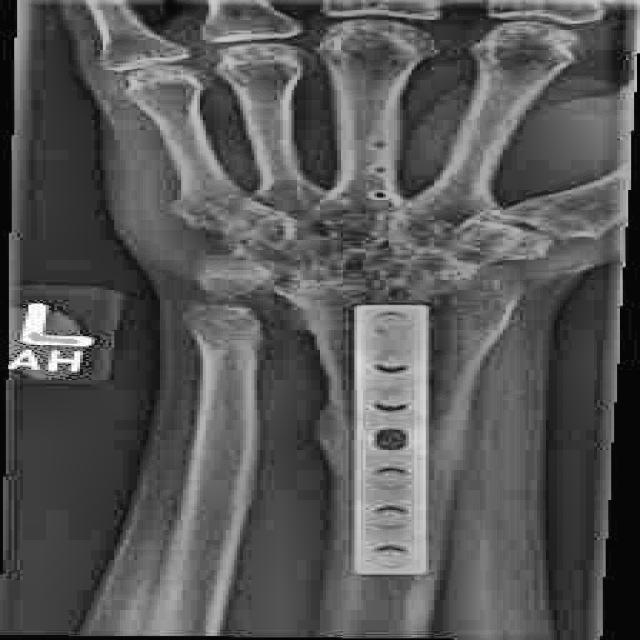wrist positive: (436, 194, 612, 259), (166, 290, 299, 370), (287, 246, 441, 304)
